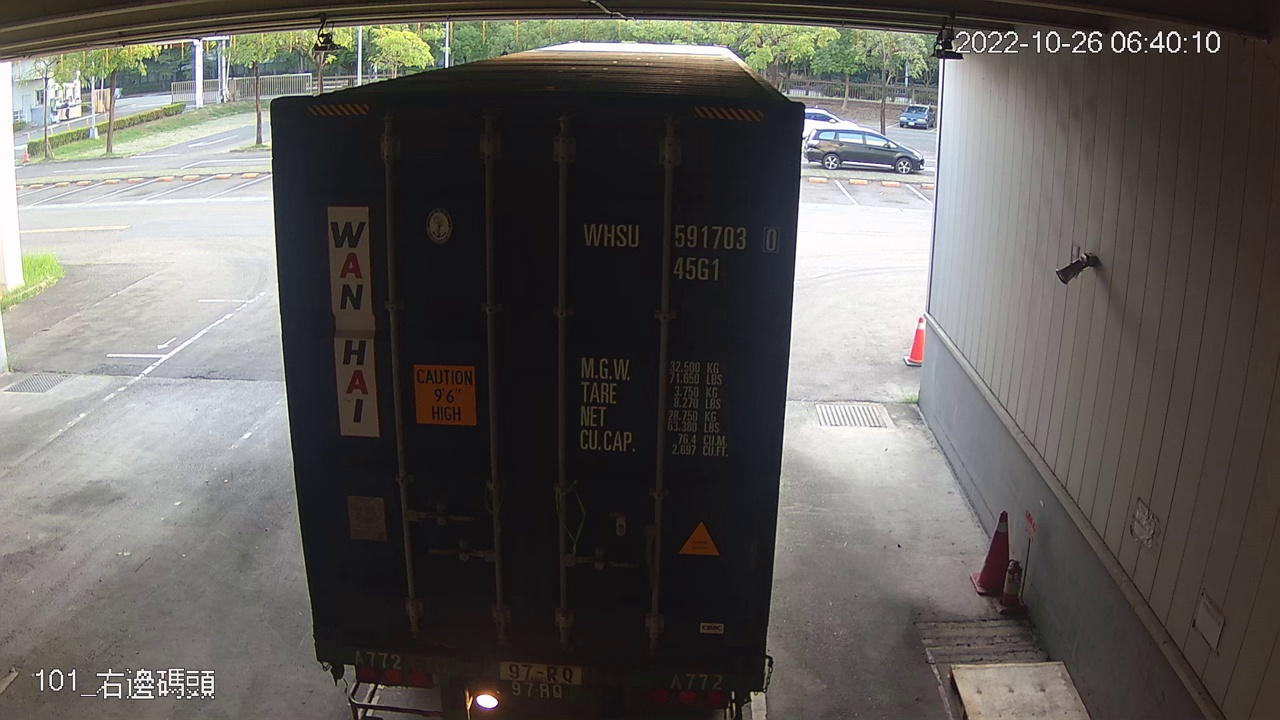container: (575, 209, 784, 288)
